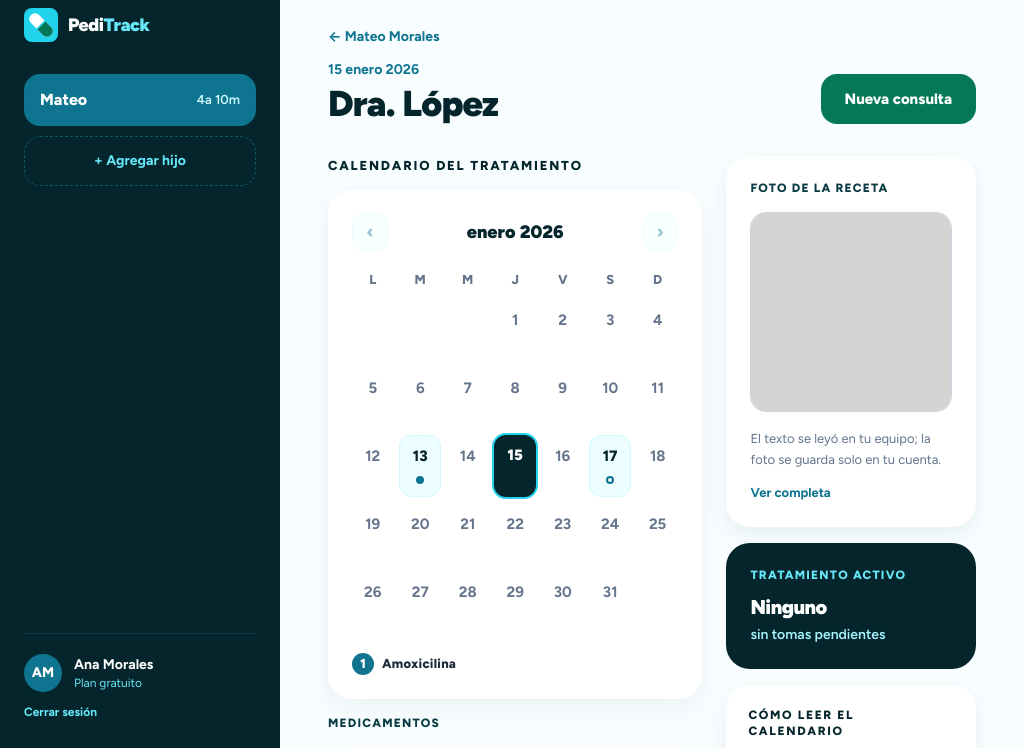
ConsultationDetailPage › on the phone (mock 03) › opens on today even when the medication has no doses that day, and says so; tapping another day shows its doses (specs/023)
Click the button named "17 de enero" at (610, 466), box [589,435,631,497]
(page scrolled)
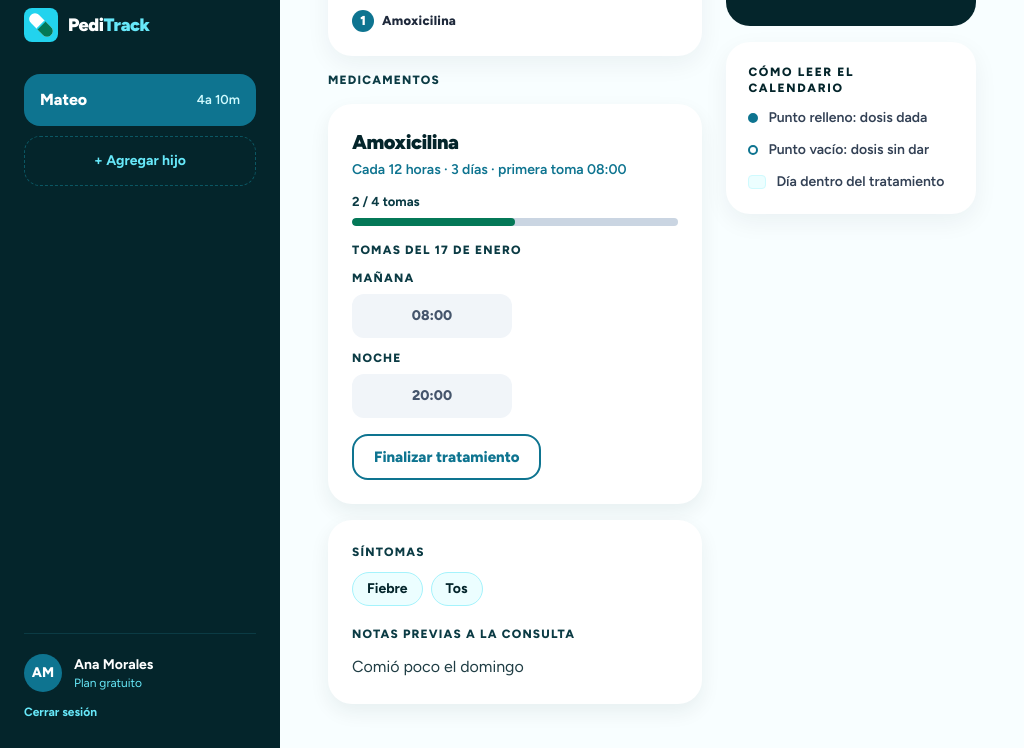
Expected: the text "Tomas del 17 de enero" is shown, [352,242,522,256]
Expected: the button named "Toma de 20:00" is shown, [352,374,512,418]
